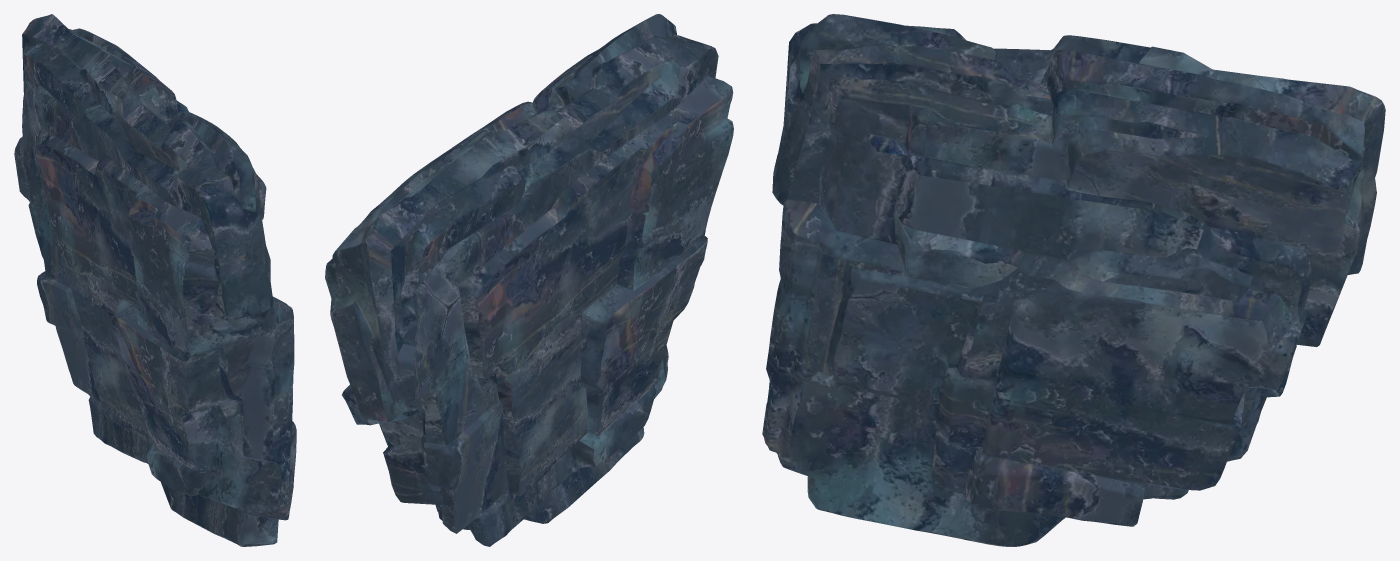
The picture shows the model from 3 angles, left to right: view 1: azimuth 30°, elevation 25°; view 2: azimuth 150°, elevation 25°; view 3: azimuth 270°, elevation 25°; orthographic projection. The views are drawn at different scales.
Parts seen in each view (by area): view 1: SM_Cave_Floor_03_LOD0; view 2: SM_Cave_Floor_03_LOD0; view 3: SM_Cave_Floor_03_LOD0.
Boxes of the visible parts, x1,y1,x2,y2 form: SM_Cave_Floor_03_LOD0: [14, 14, 296, 546]; SM_Cave_Floor_03_LOD0: [325, 14, 733, 546]; SM_Cave_Floor_03_LOD0: [762, 14, 1385, 546].
Bounding box in the file's own units: 2.71 × 6.76 × 7.56.
1 material, 1 textured.
